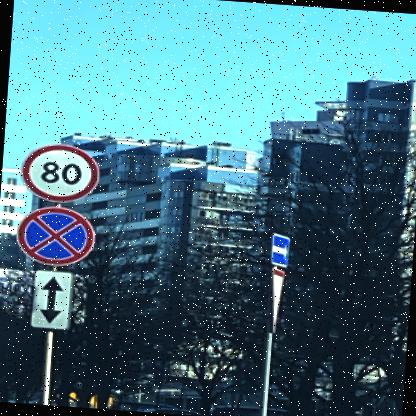speedlimit: (16, 140, 98, 204)
